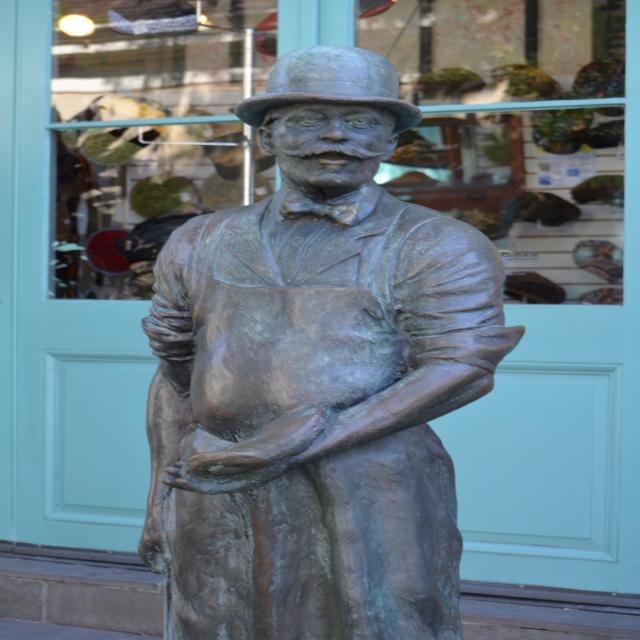Hat: (232, 44, 423, 140)
